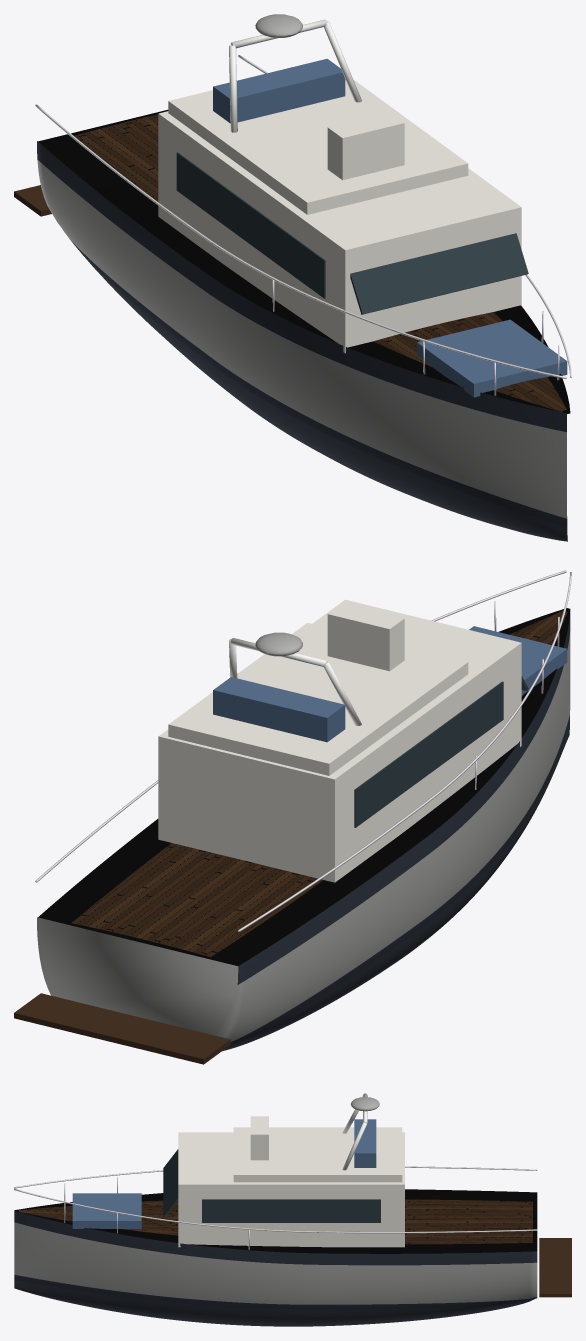
File: yacht.glb
3 views of the same model, one above another, from view 1: azimuth 30°, elevation 25°; view 2: azimuth 150°, elevation 25°; view 3: azimuth 270°, elevation 25° (orthographic). The views are drawn at different scales.
Parts seen in each view (by area): view 1: Hull, Saloon, Flybridge, WaterMask, Windshield, Deck, Sunpad, Window.001, FlySeat, FlyConsole, Rubrail.001, Radar (+3 smaller); view 2: Hull, Saloon, Flybridge, Deck, WaterMask, SwimPlatform, Window.001, FlySeat, FlyConsole, Sunpad, Rubrail.001, Rubrail (+1 smaller); view 3: Hull, Saloon, Flybridge, Deck, WaterMask, Window, Sunpad, SwimPlatform, Rubrail, FlySeat, FlyConsole, Windshield (+2 smaller).
Part boxes in pixels (box(x1,y1,x2,y2)): Hull: box(37, 141, 567, 541); Saloon: box(158, 111, 521, 353); Flybridge: box(168, 79, 468, 214); WaterMask: box(38, 109, 570, 413); Windshield: box(350, 233, 528, 314); Deck: box(74, 114, 566, 411); Sunpad: box(417, 319, 567, 397); Window.001: box(176, 152, 325, 298); FlySeat: box(213, 58, 345, 123); FlyConsole: box(327, 112, 404, 180); Rubrail.001: box(35, 104, 566, 378); Radar: box(255, 14, 302, 37); Hull: box(37, 613, 570, 1050); Saloon: box(158, 599, 521, 882); Flybridge: box(168, 623, 468, 775); Deck: box(71, 610, 567, 957); WaterMask: box(38, 608, 570, 965); SwimPlatform: box(14, 993, 230, 1064); Window.001: box(354, 681, 503, 827); FlySeat: box(213, 677, 345, 742); FlyConsole: box(327, 603, 404, 671); Sunpad: box(469, 626, 567, 695); Rubrail.001: box(238, 572, 571, 931); Rubrail: box(35, 570, 566, 882); Hull: box(14, 1210, 537, 1326); Saloon: box(178, 1132, 404, 1247); Flybridge: box(233, 1127, 402, 1182); Deck: box(19, 1199, 532, 1244); WaterMask: box(14, 1189, 537, 1253); Window: box(202, 1199, 380, 1222); Sunpad: box(72, 1193, 141, 1228); SwimPlatform: box(539, 1238, 571, 1297); Rubrail: box(14, 1188, 537, 1233); FlySeat: box(354, 1119, 376, 1167); FlyConsole: box(250, 1116, 268, 1160); Windshield: box(163, 1149, 178, 1217).
Size of the model in its own units: 4.35 by 6.38 by 15.35.
11 materials, 1 textured.
